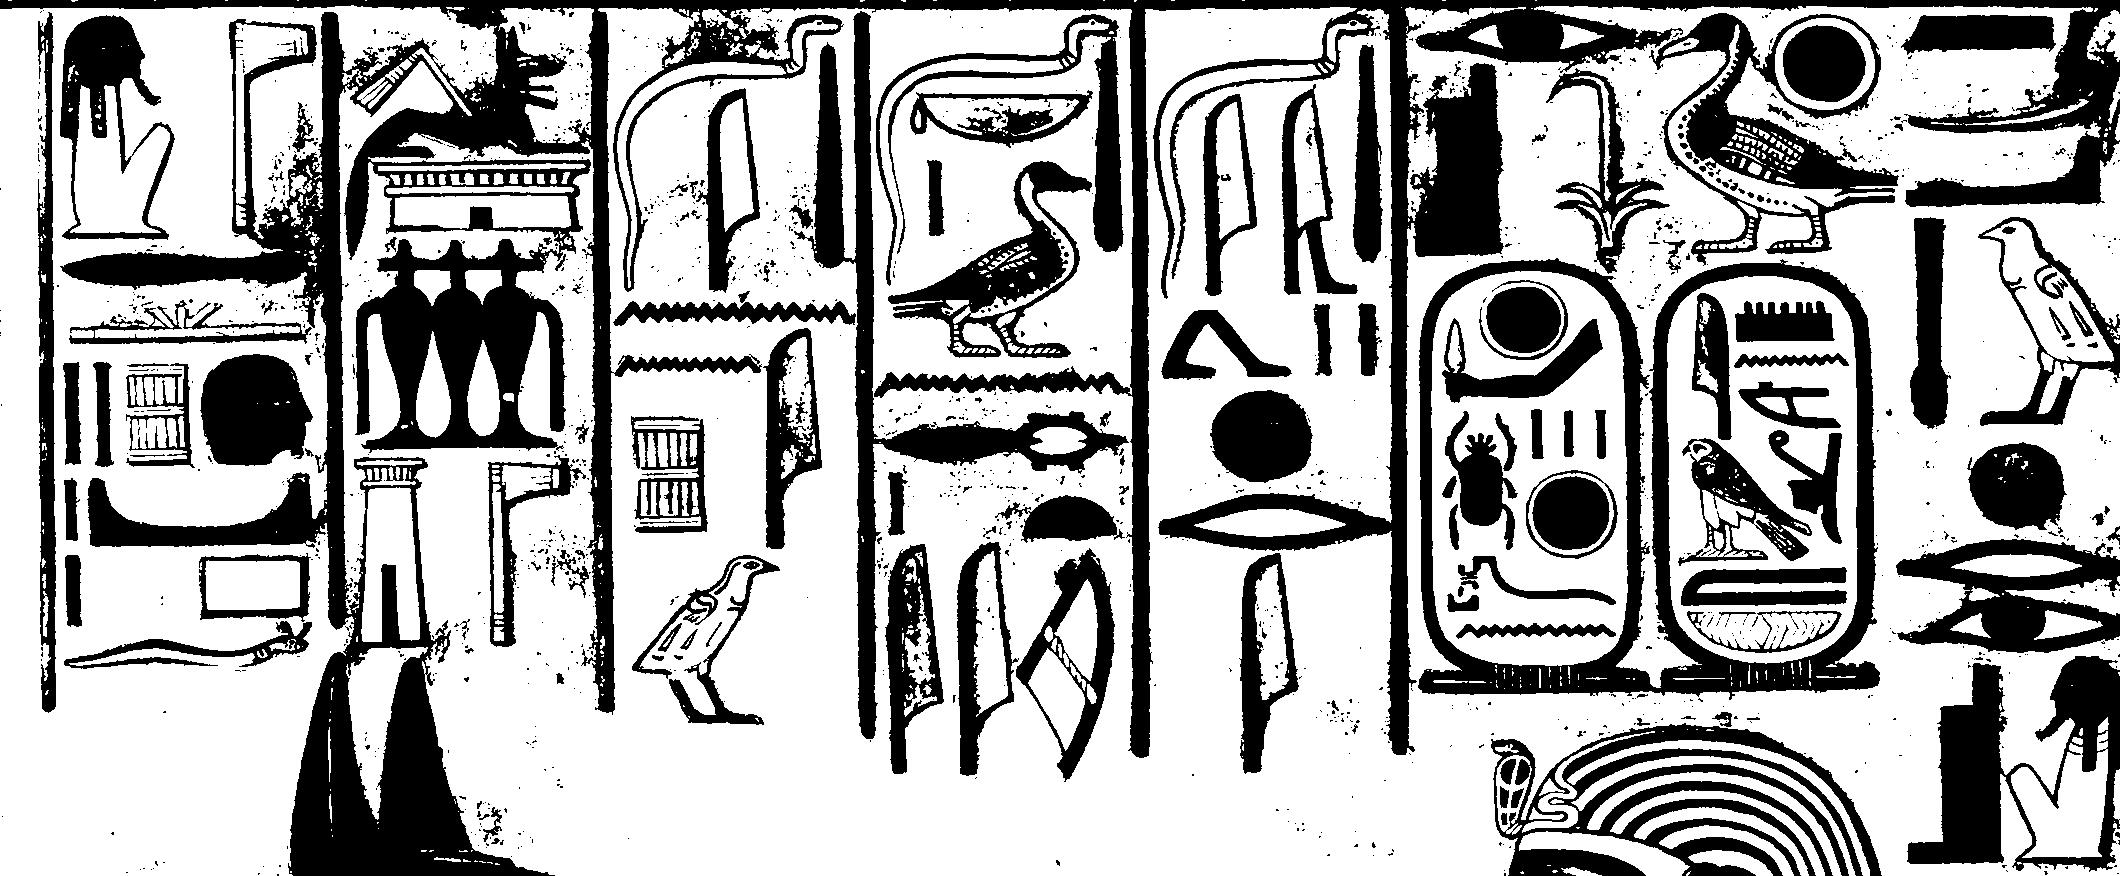Basket: (907, 85, 1092, 146)
Mouth: (1155, 492, 1395, 549), (1894, 535, 2120, 593)
Reed: (948, 535, 1018, 791), (754, 328, 830, 552), (1229, 549, 1302, 780), (883, 541, 946, 788), (700, 87, 771, 295), (1197, 92, 1261, 299), (1689, 287, 1741, 441)
Water: (873, 366, 1132, 406), (610, 296, 859, 335), (614, 347, 761, 384), (1453, 618, 1618, 648), (1733, 350, 1852, 374)
